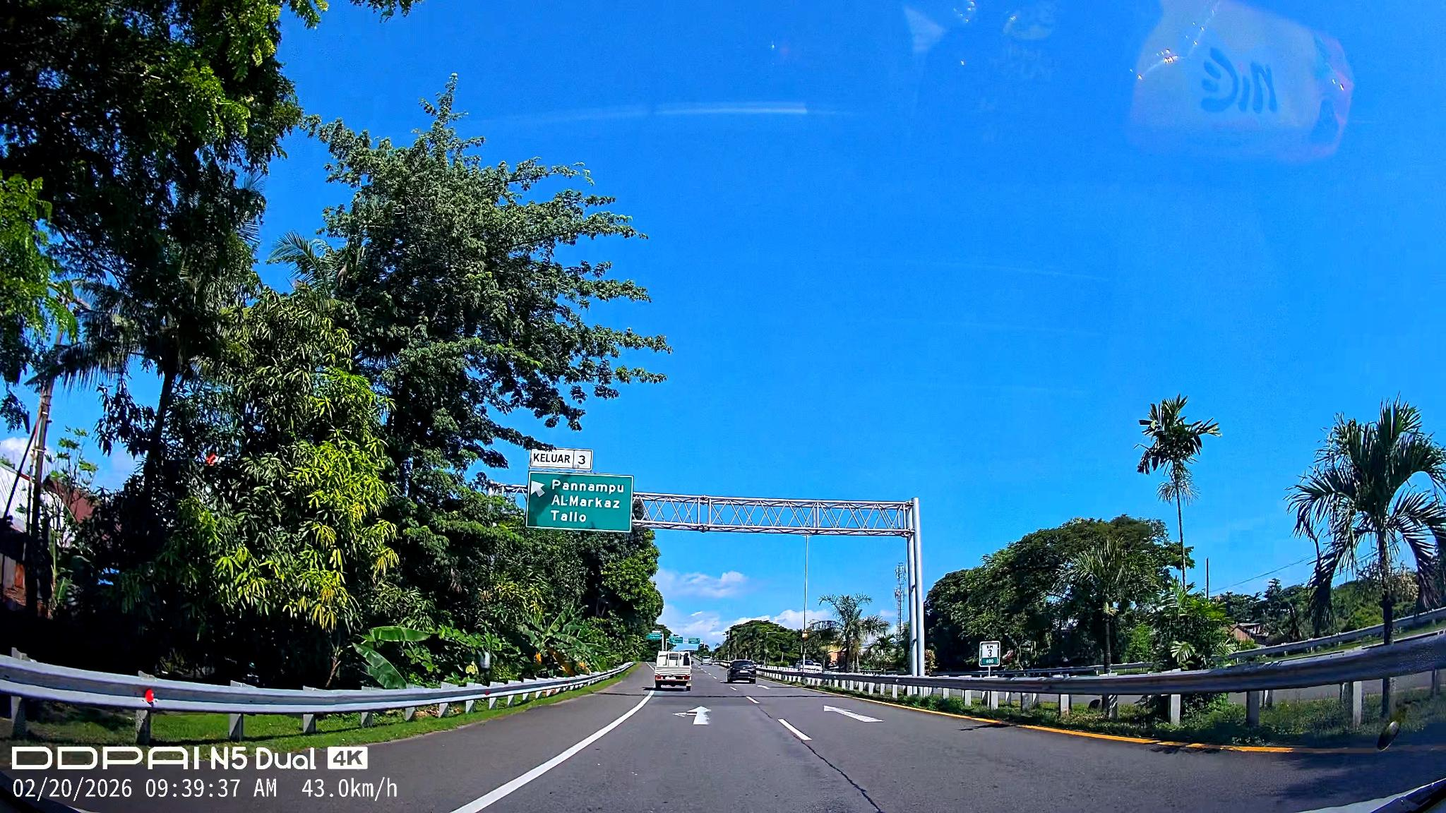rambu_teks: (527, 470, 634, 533)
